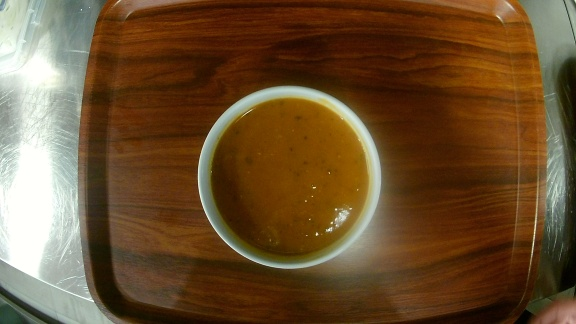ezogelin: (193, 82, 383, 270)
